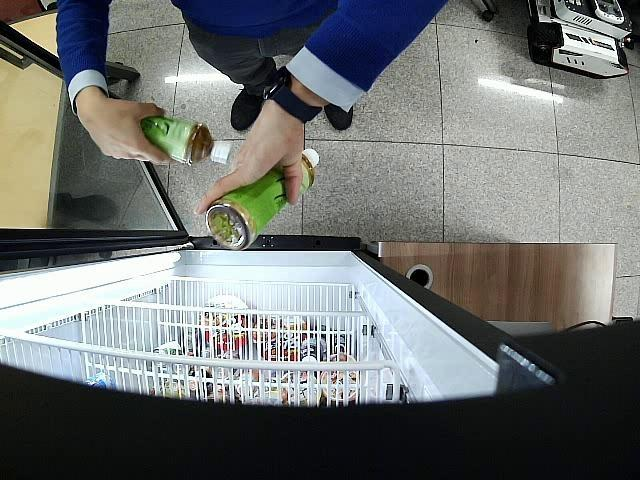19_17cha: (206, 150, 320, 252), (140, 116, 232, 168)
